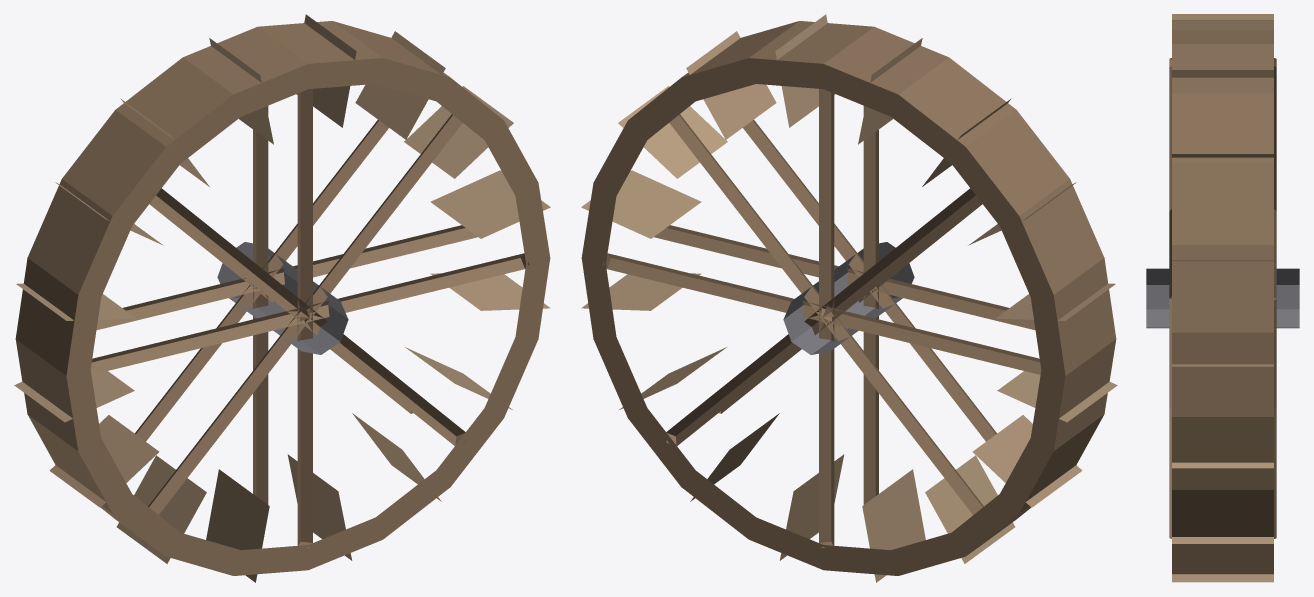
File: mill_wheel.glb
3 renders of one model, left to right at view 1: azimuth 30°, elevation 25°; view 2: azimuth 150°, elevation 25°; view 3: azimuth 270°, elevation 25°, orthographic.
Parts seen in each view (by area): view 1: mill_wheel; view 2: mill_wheel; view 3: mill_wheel.
Boxes of the visible parts, <box> form: mill_wheel: <box>14,14,550,582</box>; mill_wheel: <box>581,14,1117,582</box>; mill_wheel: <box>1146,14,1299,582</box>.
Size of the model in its own units: 4.43 by 4.43 by 1.2.
